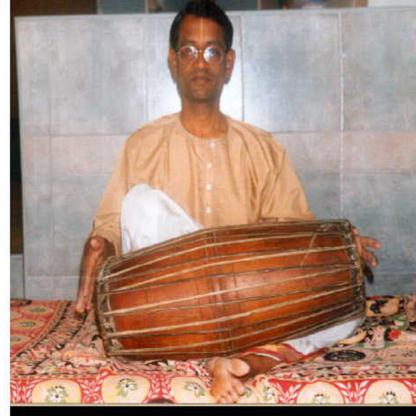Mridangam: (96, 203, 372, 377)
